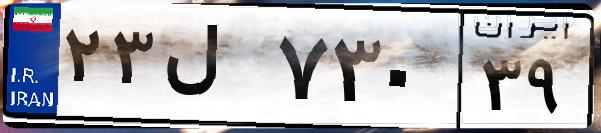0: (385, 28, 445, 110)
2: (57, 26, 110, 100)
3: (330, 28, 385, 110), (475, 38, 525, 113), (110, 28, 158, 98)
7: (270, 28, 330, 110)
9: (525, 38, 570, 115)
ل: (158, 20, 270, 120)
